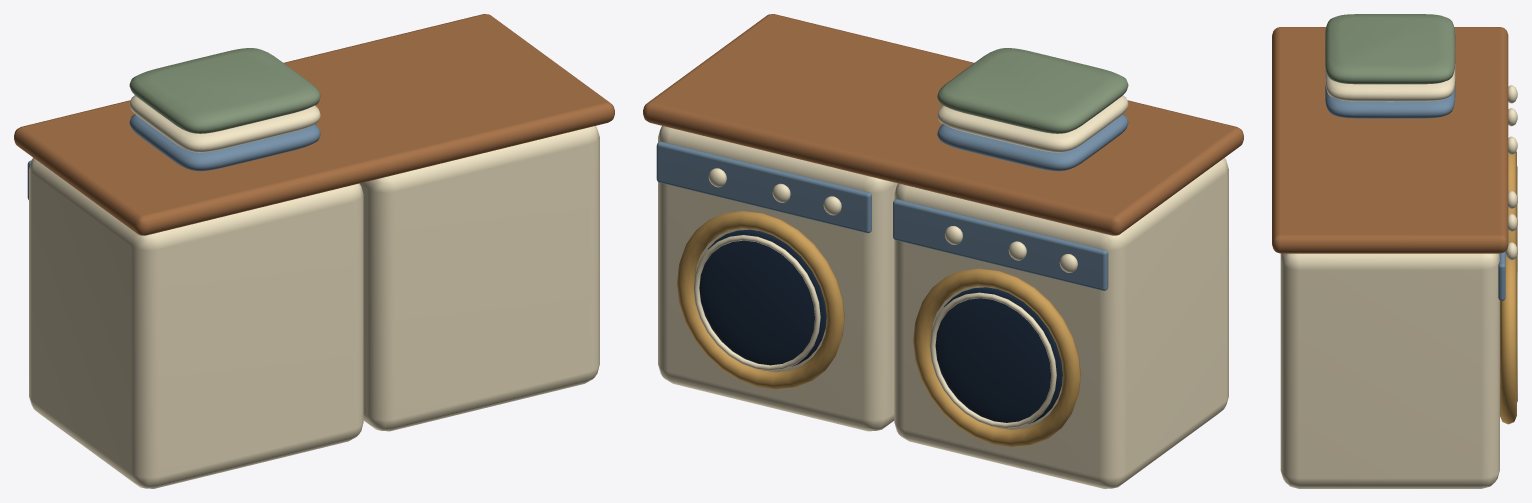
File: washer.glb
3 views of the same model, side by side, from view 1: azimuth 30°, elevation 25°; view 2: azimuth 150°, elevation 25°; view 3: azimuth 270°, elevation 25° (orthographic). The views are drawn at different scales.
Visible parts, largest first — view 1: House07_washer; view 2: House07_washer; view 3: House07_washer.
Boxes of the visible parts, x1,y1,x2,y2 form: House07_washer: (14, 14, 614, 488); House07_washer: (643, 14, 1243, 488); House07_washer: (1272, 14, 1517, 488).
Bounding box in the file's own units: 1.5 × 1.01 × 0.728.
